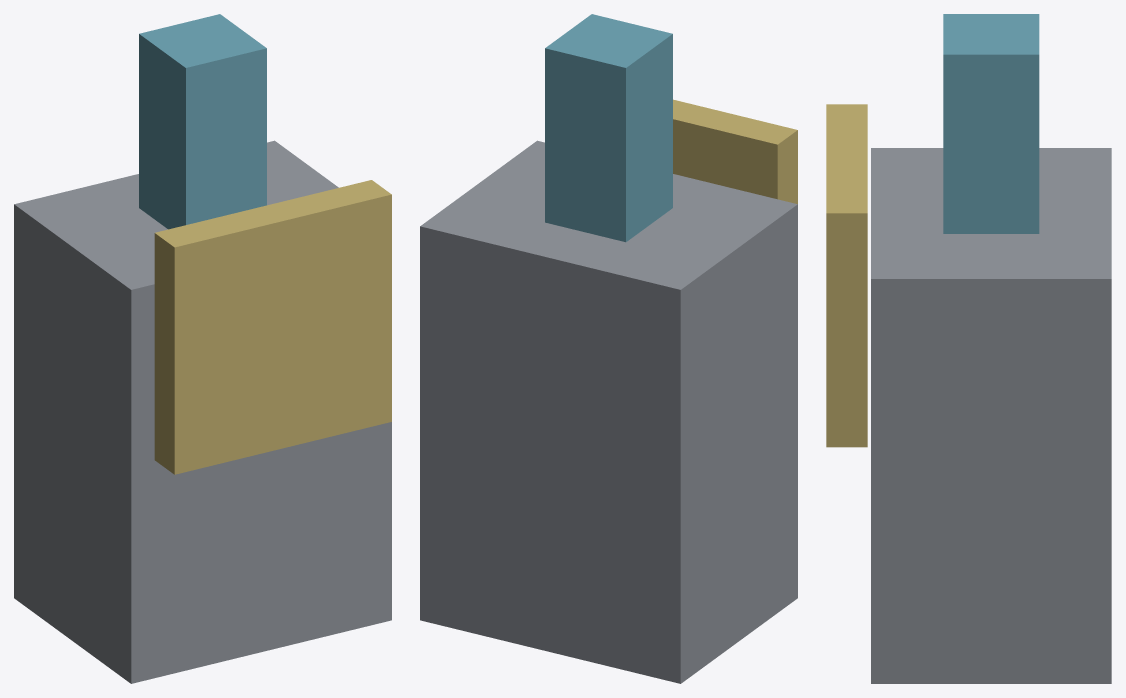
File: prop_hydraulic_sluice_valve.glb
3 renders of one model, left to right at view 1: azimuth 30°, elevation 25°; view 2: azimuth 150°, elevation 25°; view 3: azimuth 270°, elevation 25°, orthographic. The views are drawn at different scales.
Visible parts, largest first — view 1: prop_hydraulic_sluice_valve; view 2: prop_hydraulic_sluice_valve; view 3: prop_hydraulic_sluice_valve.
Part boxes in pixels (left/top/right/bottom): prop_hydraulic_sluice_valve: left=14, top=14, right=391, bottom=683; prop_hydraulic_sluice_valve: left=420, top=14, right=797, bottom=683; prop_hydraulic_sluice_valve: left=826, top=14, right=1111, bottom=683.
Size of the model in its own units: 0.9 by 1.88 by 0.83.
